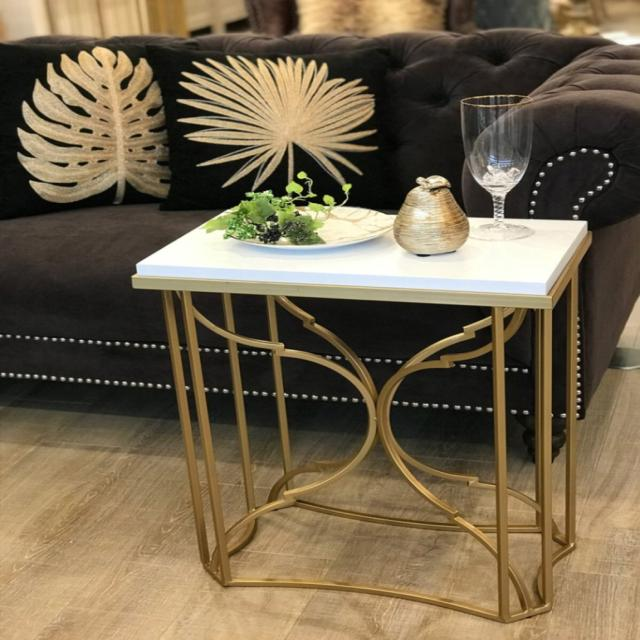white desk: (135, 186, 572, 594)
white sofa: (2, 36, 475, 398)
